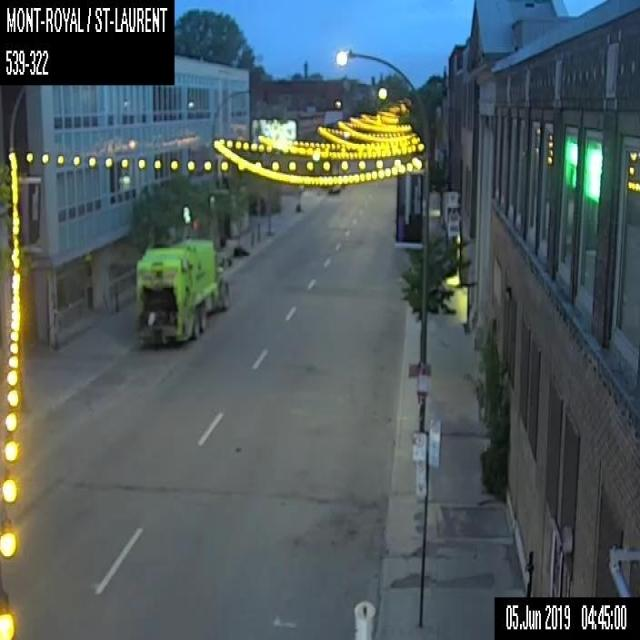vehicle: (134, 232, 231, 348)
